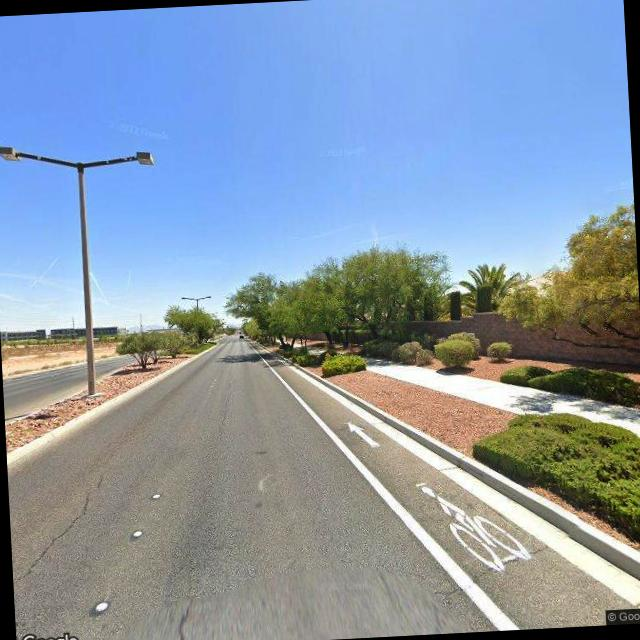pothole: (8, 472, 112, 610)
